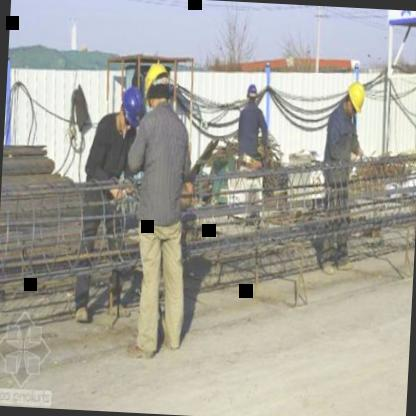helmet: (114, 81, 148, 132), (140, 60, 172, 110), (340, 78, 368, 119), (245, 80, 260, 107)
